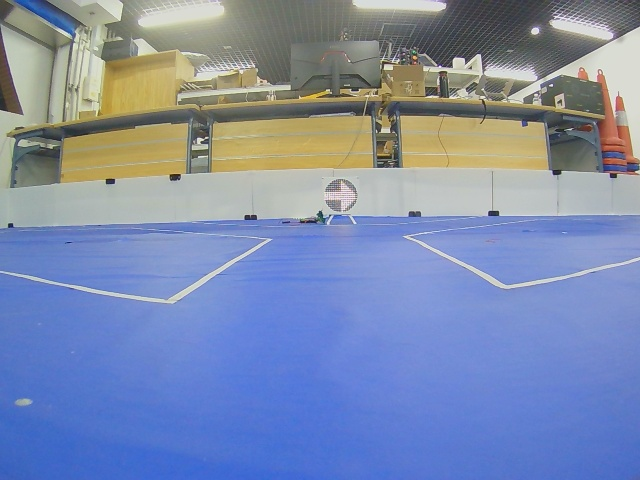right_yellow: (324, 179, 358, 213)
